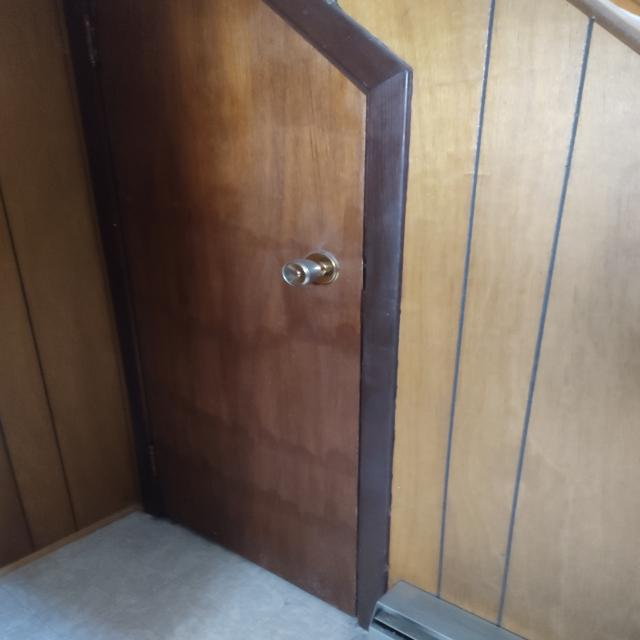door-knob: (282, 251, 339, 286)
